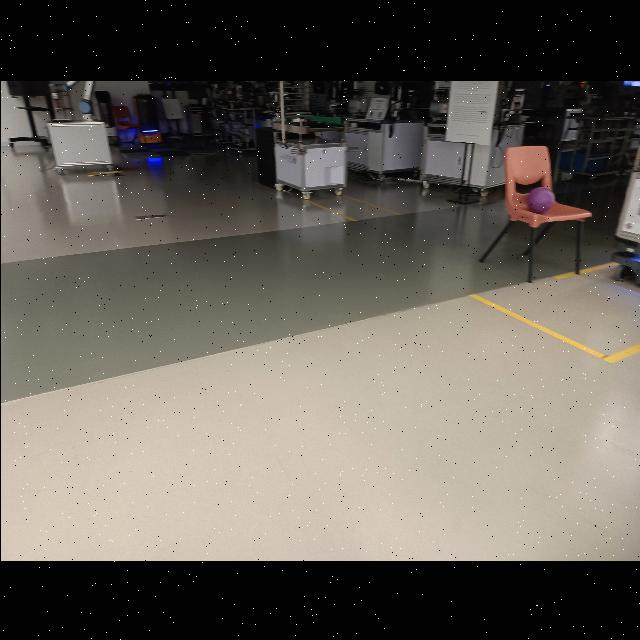P: (526, 185, 554, 212)
